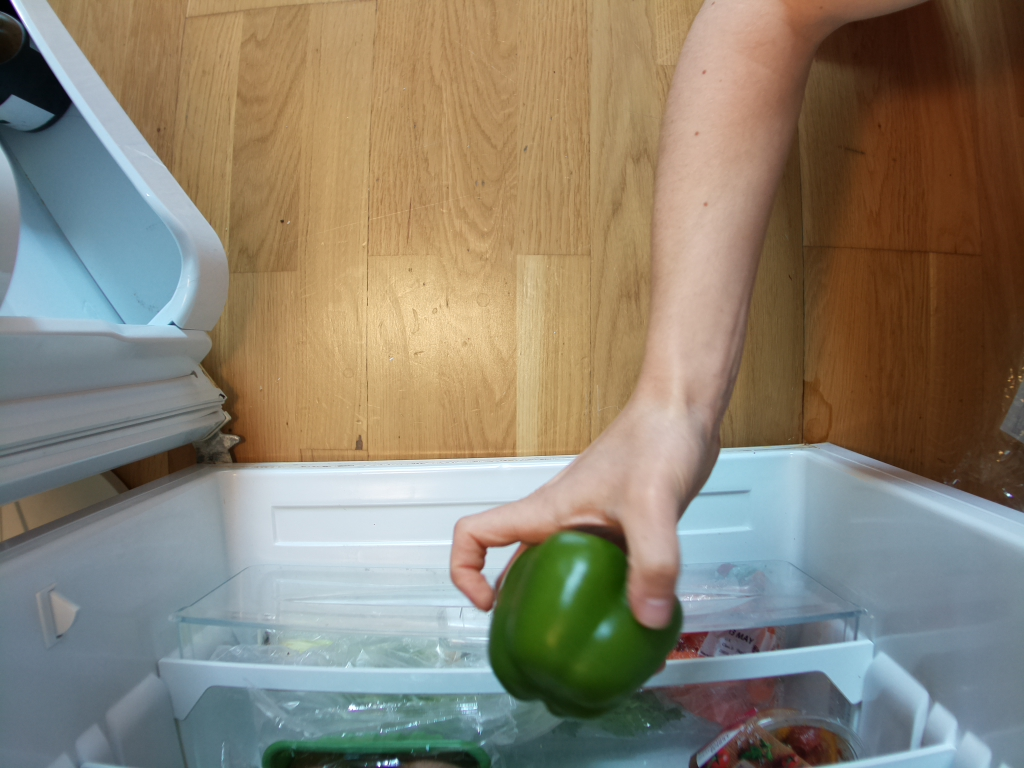pepper: (489, 531, 686, 720)
